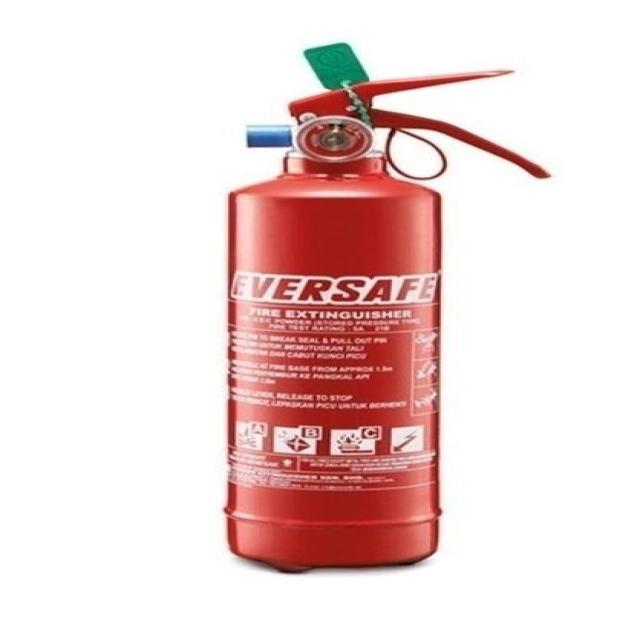fire_extinguisher: (223, 39, 547, 574)
